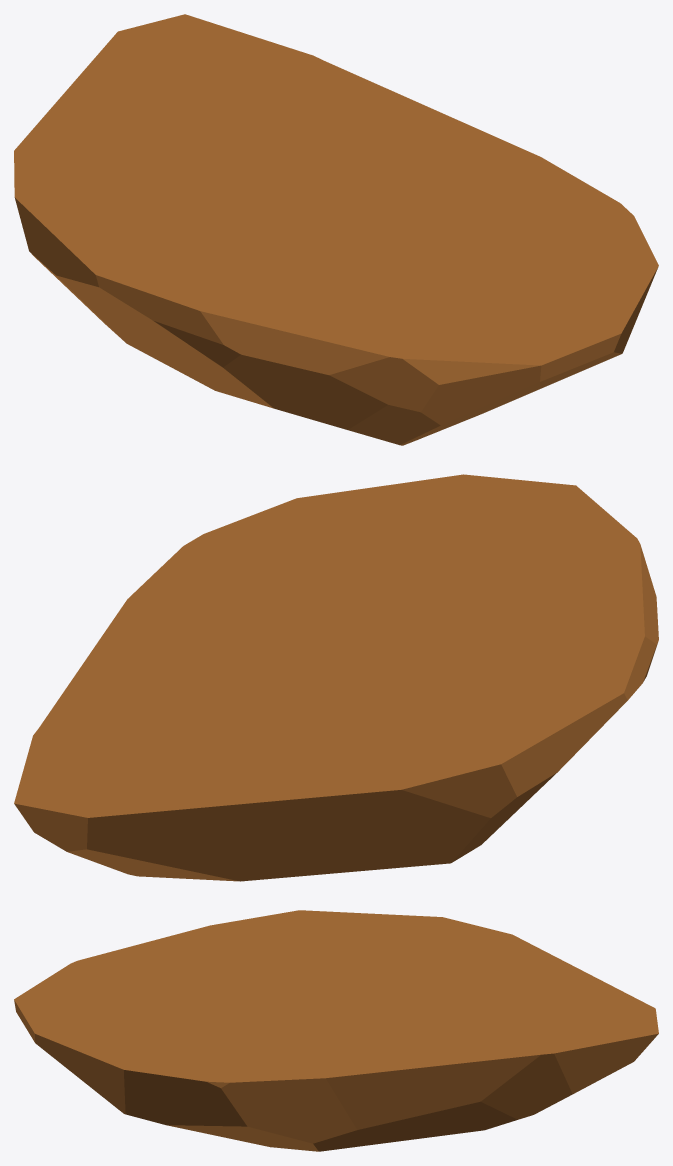
The model's file is HardRock_55.fbx.
The picture shows the model from 3 angles, top to bottom: view 1: azimuth 30°, elevation 25°; view 2: azimuth 150°, elevation 25°; view 3: azimuth 270°, elevation 25°; orthographic projection. The views are drawn at different scales.
Visible parts, largest first — view 1: HardRock_55; view 2: HardRock_55; view 3: HardRock_55.
Boxes of the visible parts, box(x1,y1,x2,y2) form: HardRock_55: box(14, 14, 658, 445); HardRock_55: box(14, 474, 658, 881); HardRock_55: box(14, 910, 658, 1151).
Size of the model in its own units: 166 by 43.92 by 273.
